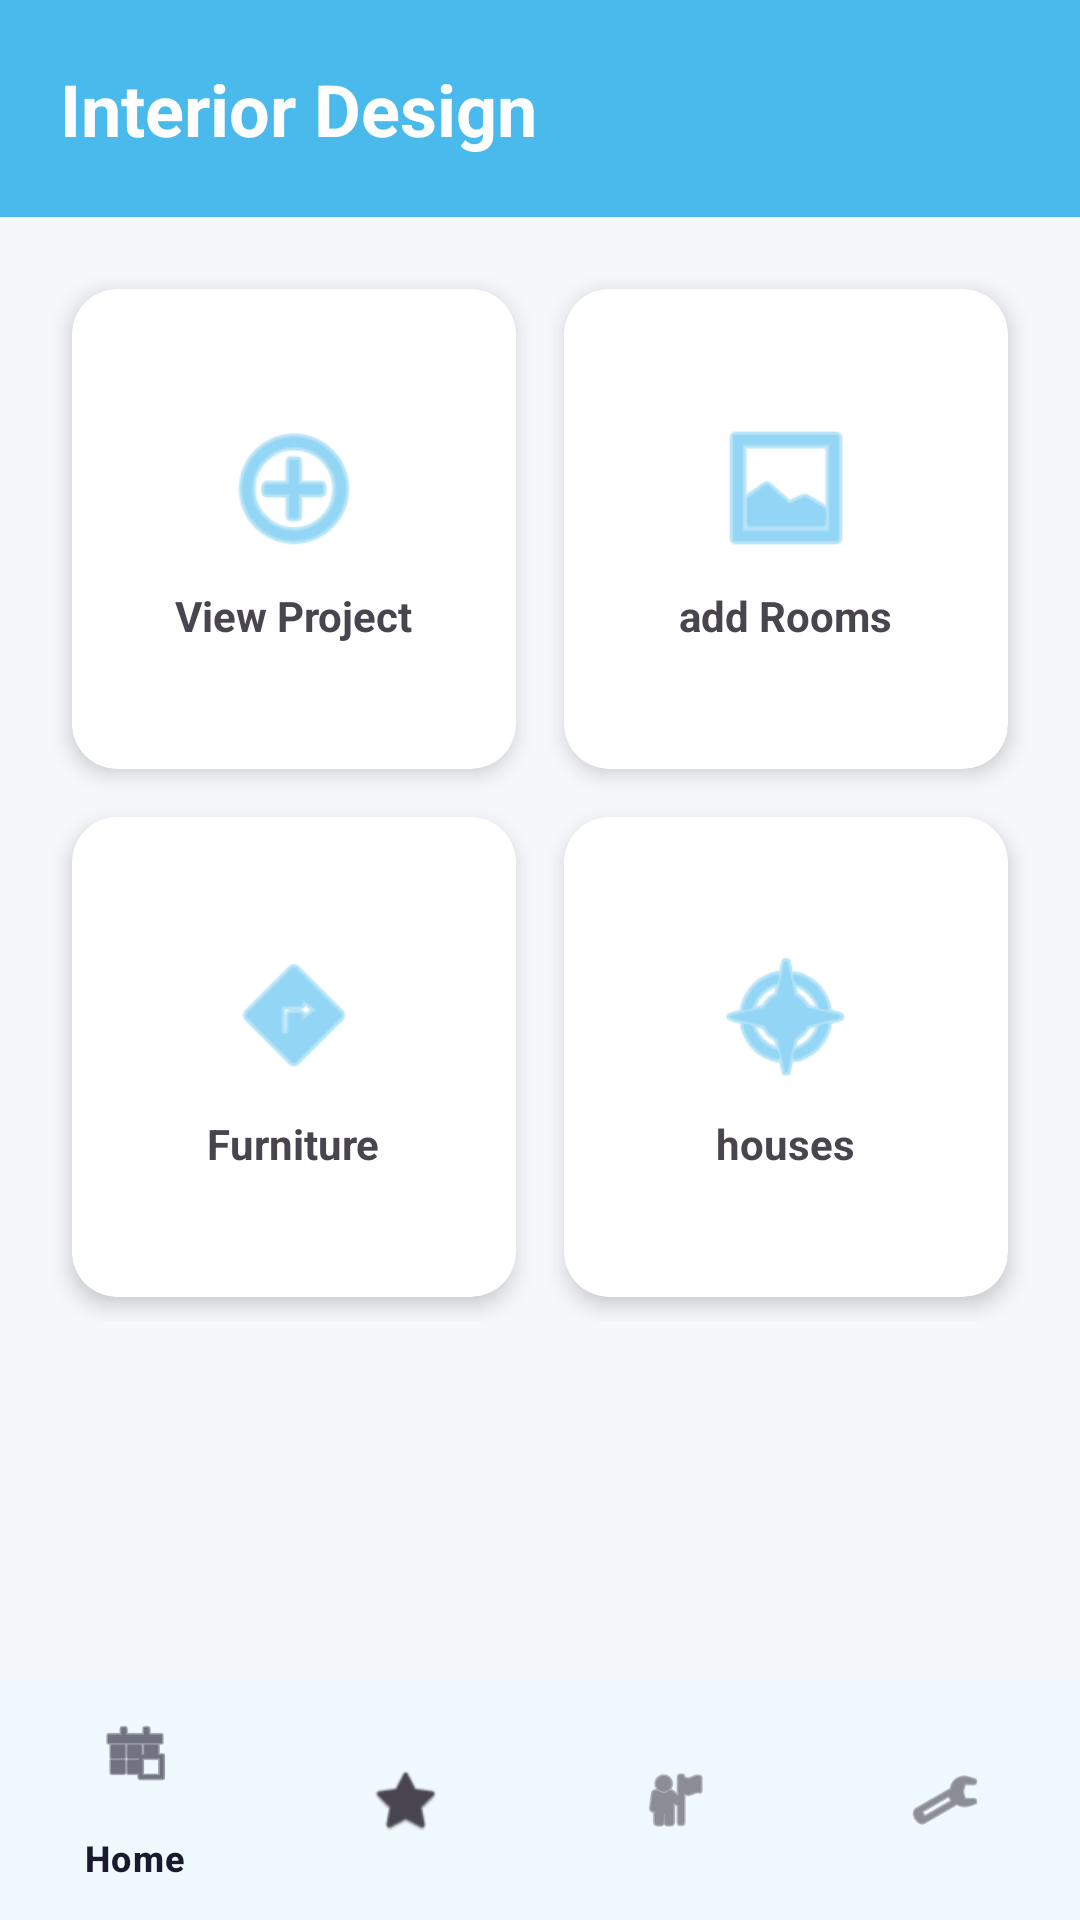

Point at icon controls on the screen. Image size 1080px x 1920px, points as (x=x, y=y).
add: (x=294, y=488)
compass: (x=785, y=1017)
directions: (x=294, y=1015)
gallery: (x=786, y=488)
